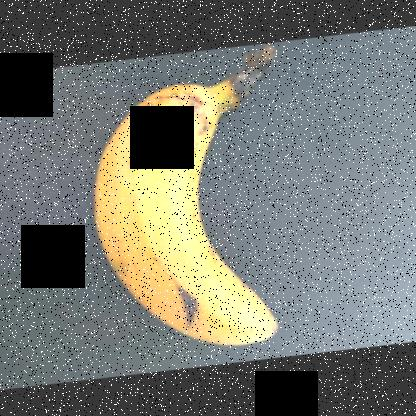ripe: (80, 64, 288, 375)
